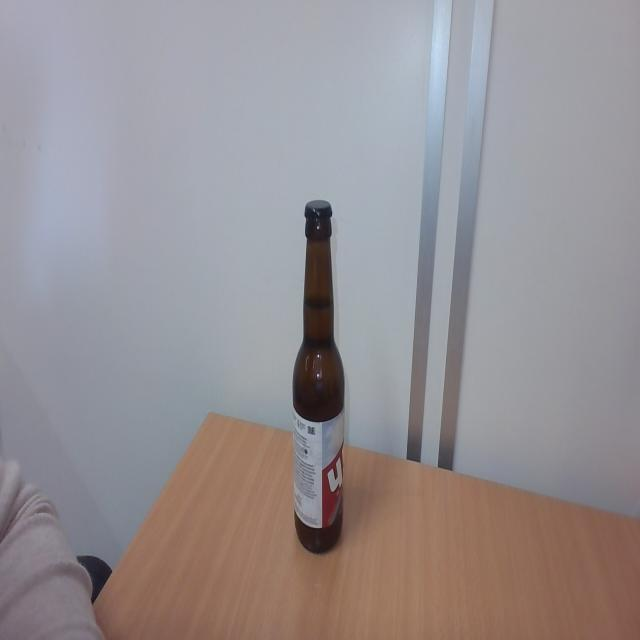Bottle: (290, 224, 348, 562)
Cap: (303, 197, 334, 223)
Label: (292, 406, 345, 526)
